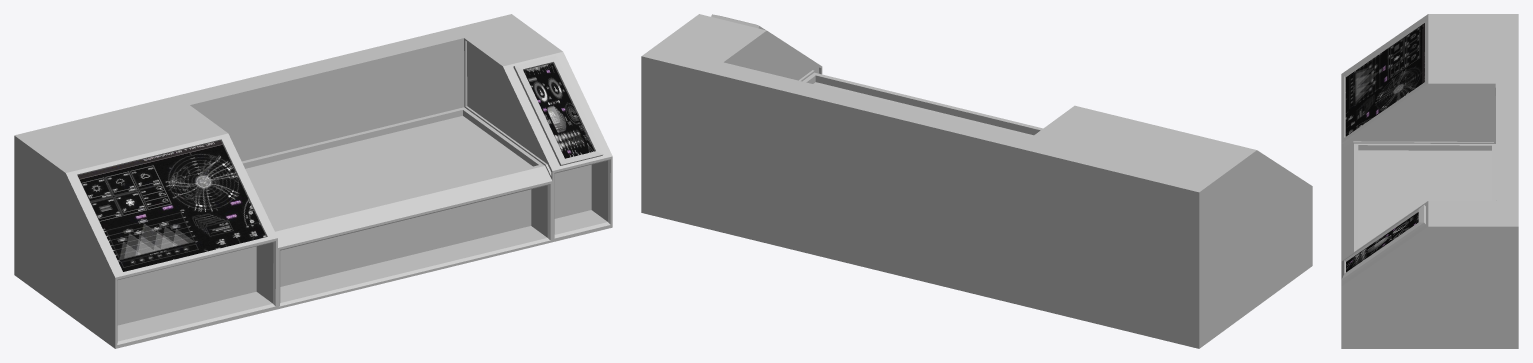
File: Character_Rooms_Bed.fbx
3 renders of one model, left to right at view 1: azimuth 30°, elevation 25°; view 2: azimuth 150°, elevation 25°; view 3: azimuth 270°, elevation 25°, orthographic. The views are drawn at different scales.
Parts seen in each view (by area): view 1: Cube.001; view 2: Cube.001; view 3: Cube.001.
Part boxes in pixels (x1,y1,x2,y2): Cube.001: (14, 14, 612, 348); Cube.001: (641, 14, 1312, 348); Cube.001: (1341, 14, 1518, 348).
Bounding box in the file's own units: 662 × 178 × 233.
